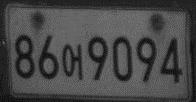0: (112, 35, 133, 81)
4: (158, 37, 183, 84)
6: (38, 35, 59, 80)
8: (14, 34, 35, 78)
9: (135, 36, 156, 83), (87, 35, 108, 81)
어: (62, 42, 83, 80)
